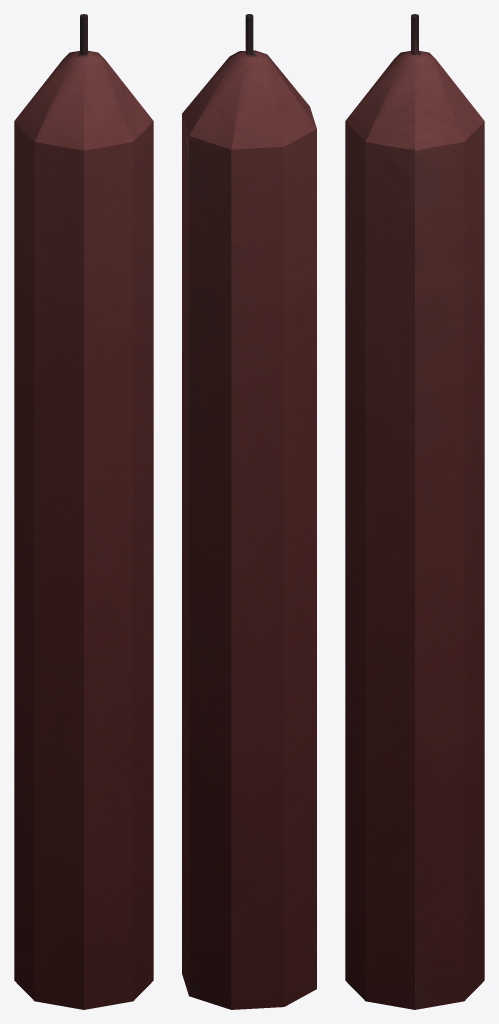
The model's file is candle.obj.
3 views of the same model, side by side, from view 1: azimuth 90°, elevation 25°; view 2: azimuth 210°, elevation 25°; view 3: azimuth 270°, elevation 25° (orthographic).
Size of the model in its own units: 0.0531 by 0.4049 by 0.0531.
